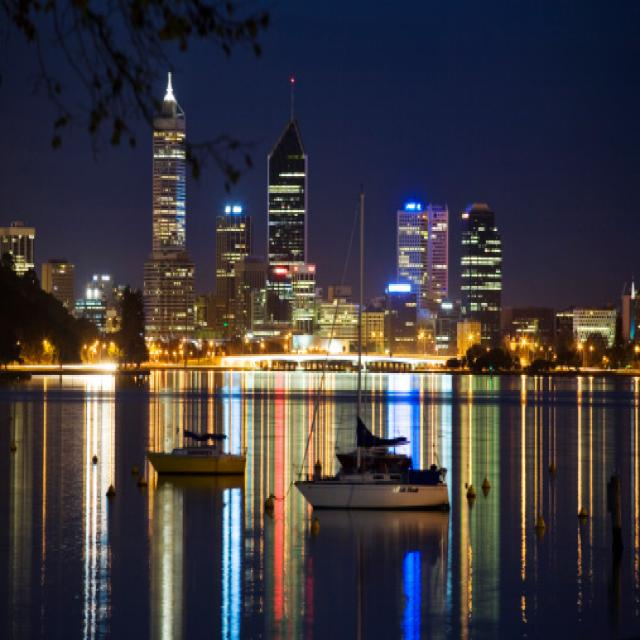Boat: (299, 391, 508, 568), (138, 411, 254, 534)
